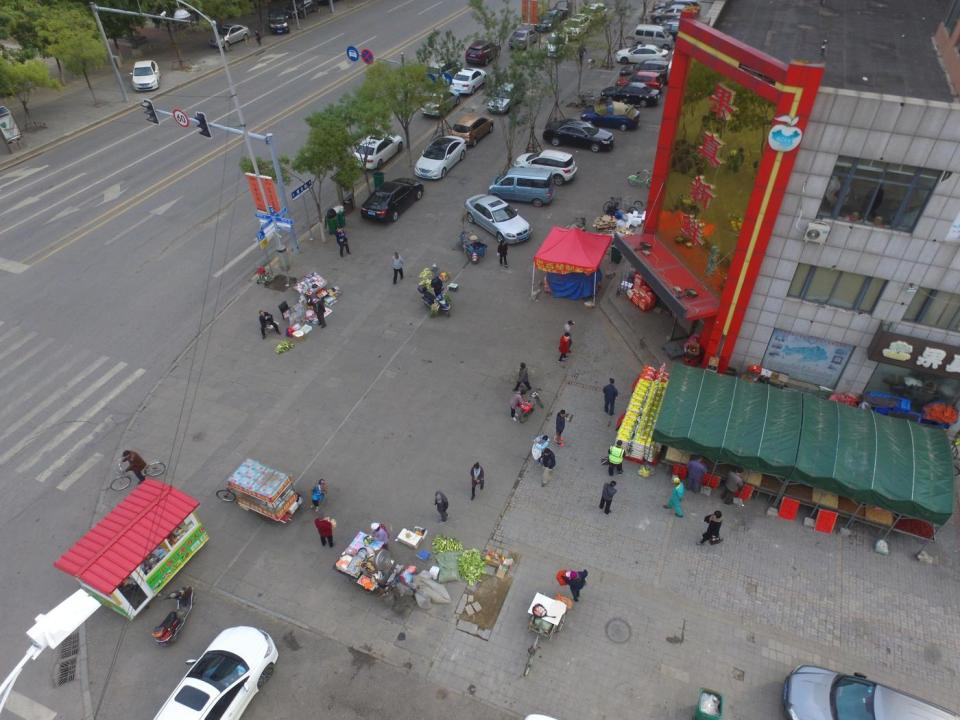car: (143, 625, 276, 718), (777, 658, 960, 718), (468, 195, 530, 244), (361, 180, 422, 224), (545, 120, 612, 154), (415, 135, 465, 178), (516, 150, 575, 185), (353, 131, 403, 171), (580, 102, 644, 131), (599, 80, 659, 108), (448, 113, 494, 149), (625, 60, 680, 90), (614, 44, 668, 69), (490, 81, 527, 114), (211, 20, 248, 52), (447, 66, 487, 94), (616, 72, 662, 96), (423, 88, 457, 120), (130, 58, 161, 91), (466, 39, 500, 64), (543, 30, 570, 61), (566, 13, 592, 41), (506, 29, 534, 51), (533, 10, 561, 32), (269, 7, 290, 36), (585, 4, 612, 23)
van: (486, 168, 554, 207), (628, 26, 673, 48)
